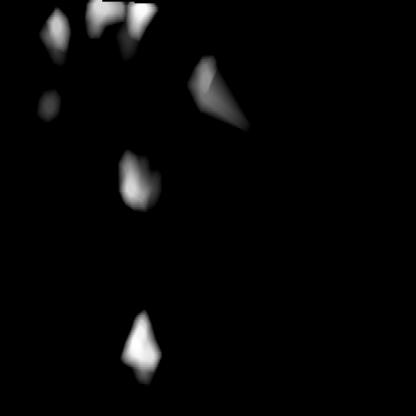fingers: (124, 310, 159, 377)
palm: (37, 2, 215, 114)
